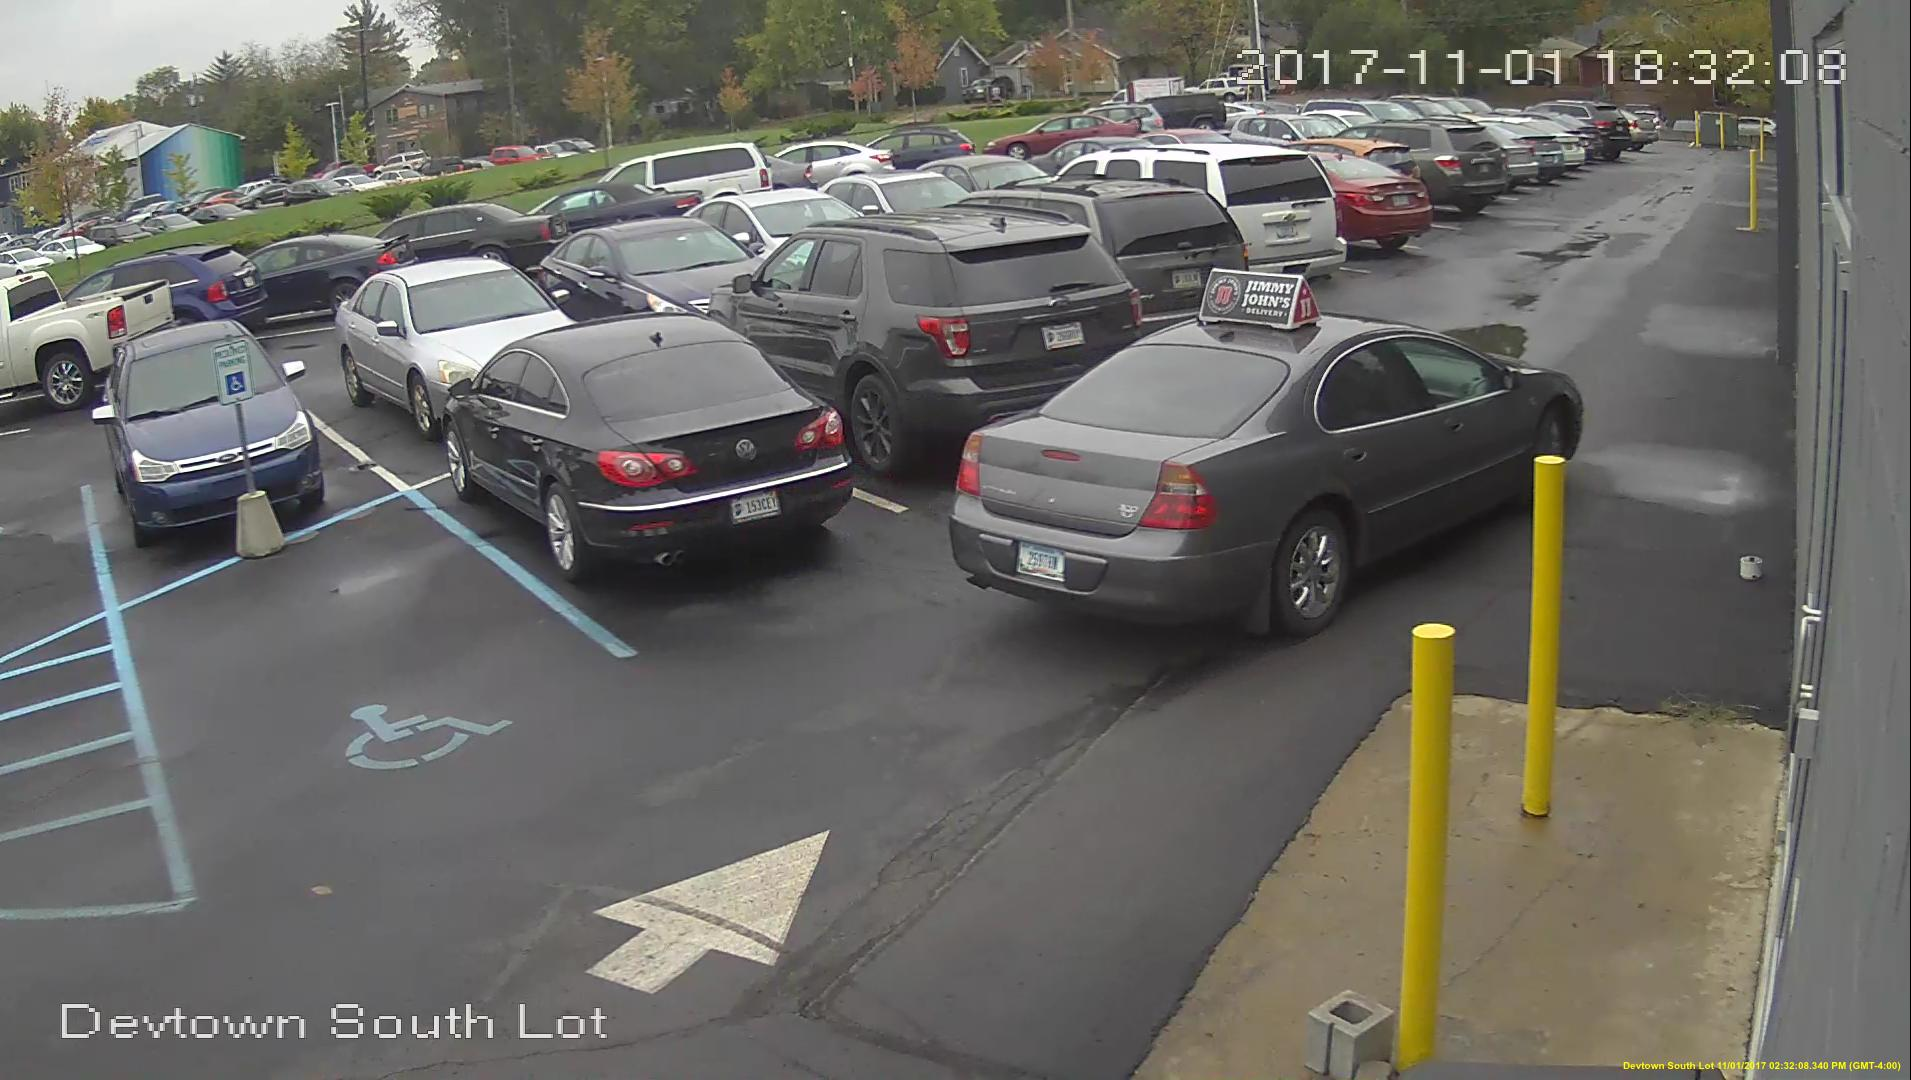jimmy_johns: (1194, 262, 1322, 340)
